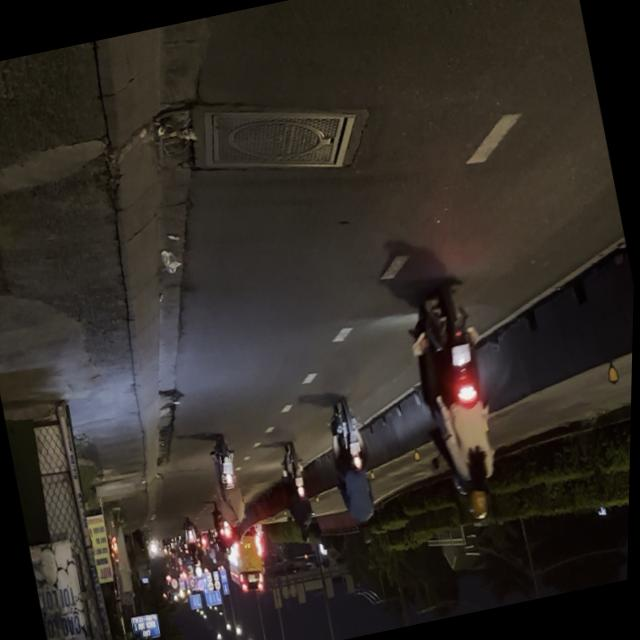helmet: (468, 483, 497, 524)
licenseplate: (397, 278, 522, 532)
nohelmet: (451, 343, 476, 368)
